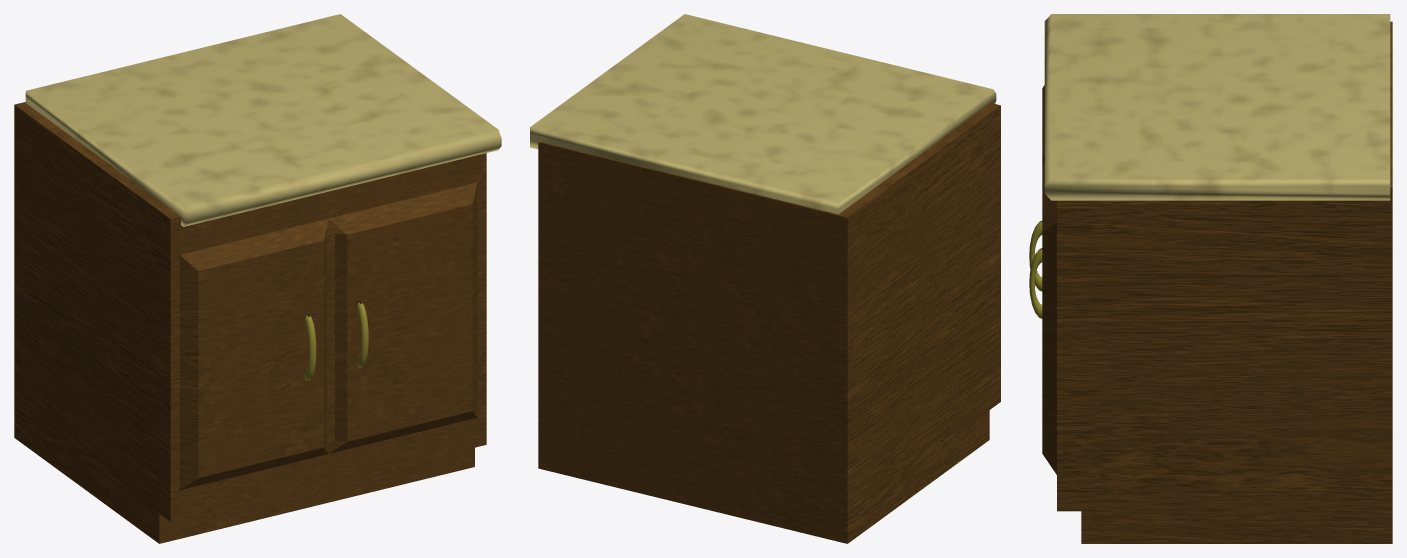
The model's file is Countertop_by_Oven.glb.
The picture shows the model from 3 angles, left to right: view 1: azimuth 30°, elevation 25°; view 2: azimuth 150°, elevation 25°; view 3: azimuth 270°, elevation 25°; orthographic projection. The views are drawn at different scales.
Visible parts, largest first — view 1: Countertop_by_Oven; view 2: Countertop_by_Oven; view 3: Countertop_by_Oven.
Part boxes in pixels (x1,y1,x2,y2): Countertop_by_Oven: [14, 14, 501, 543]; Countertop_by_Oven: [530, 14, 1000, 543]; Countertop_by_Oven: [1029, 14, 1392, 543].
Bounding box in the file's own units: 15.86 × 16.08 × 14.31.
1 material, 1 textured.
